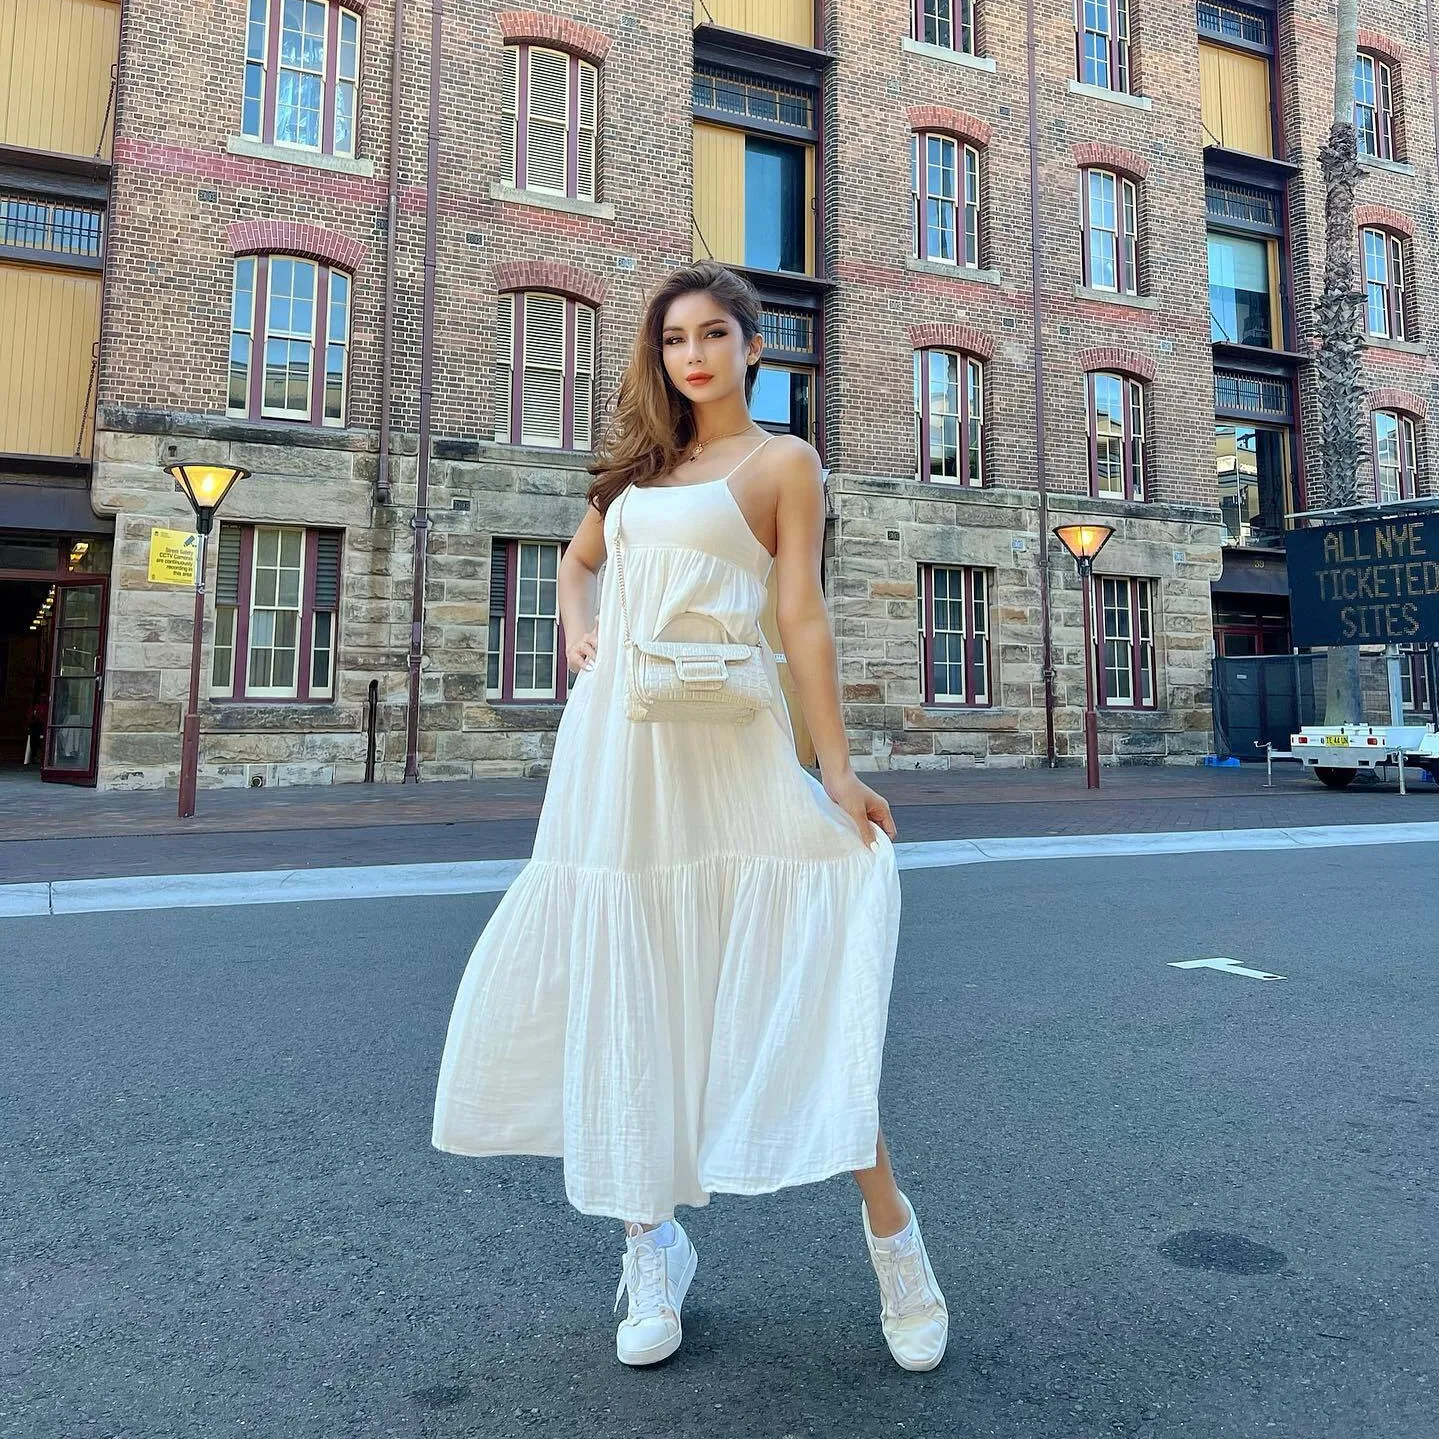person: (427, 261, 962, 1375)
